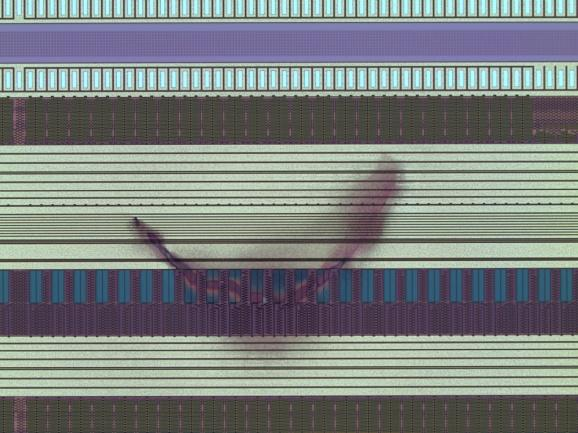PO CONTAMINATION: (127, 152, 408, 373)
